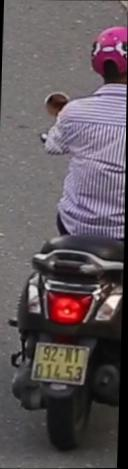LP: (31, 337, 94, 388)
